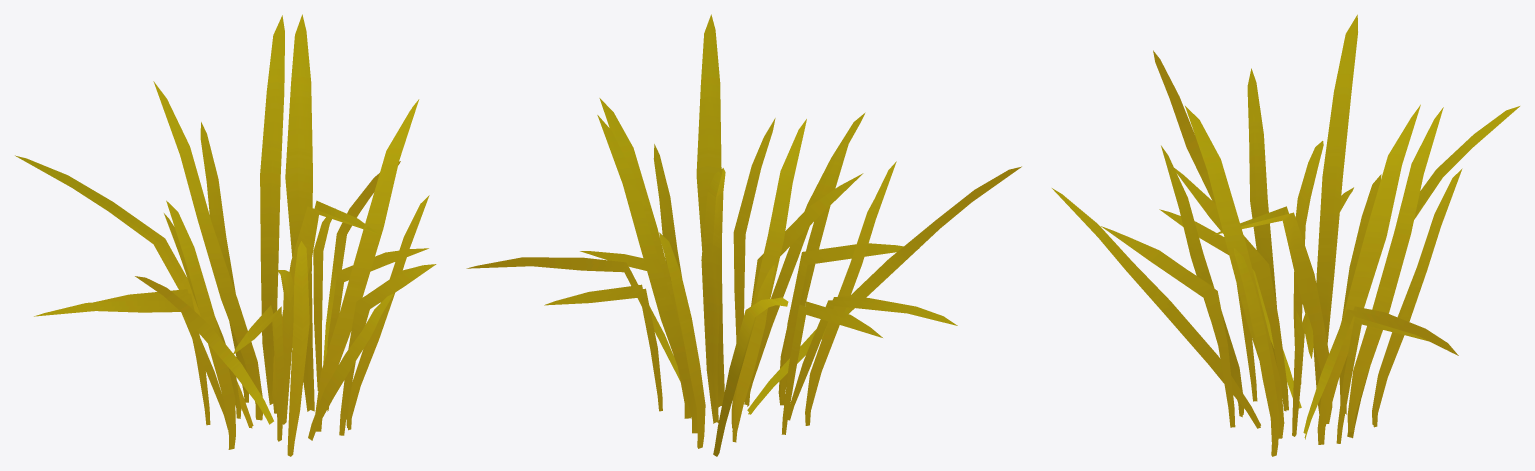
Rendered from Grass_Wispy_Short.gltf.
The picture shows the model from 3 angles, left to right: view 1: azimuth 30°, elevation 25°; view 2: azimuth 150°, elevation 25°; view 3: azimuth 270°, elevation 25°; orthographic projection. The views are drawn at different scales.
Parts seen in each view (by area): view 1: Grass_Wispy_Short; view 2: Grass_Wispy_Short; view 3: Grass_Wispy_Short.
Boxes of the visible parts, x1=… form: Grass_Wispy_Short: x1=15, y1=14, x2=436, y2=456; Grass_Wispy_Short: x1=466, y1=14, x2=1021, y2=456; Grass_Wispy_Short: x1=1052, y1=14, x2=1519, y2=456.
Bounding box in the file's own units: 1.32 × 1.07 × 1.21.
1 material, 1 textured.
